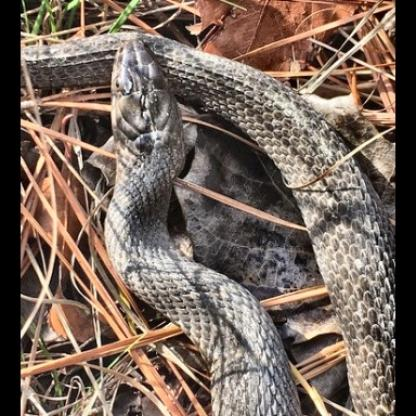Snake: (68, 0, 362, 408)
